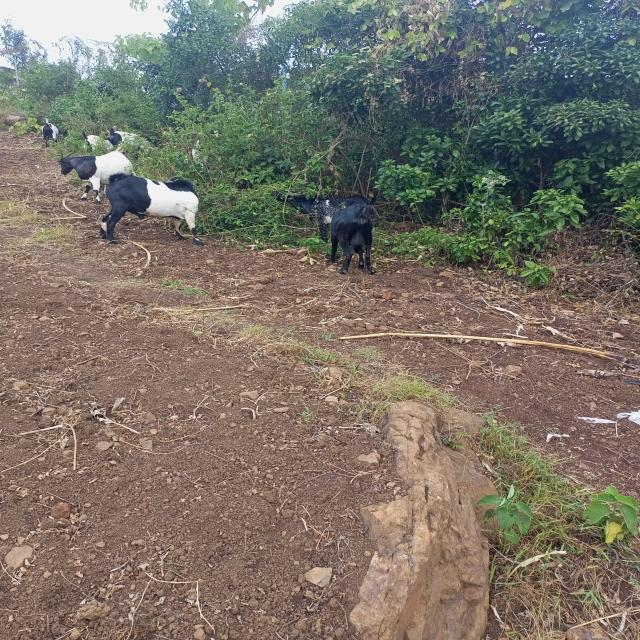cow: (43, 137, 165, 204)
